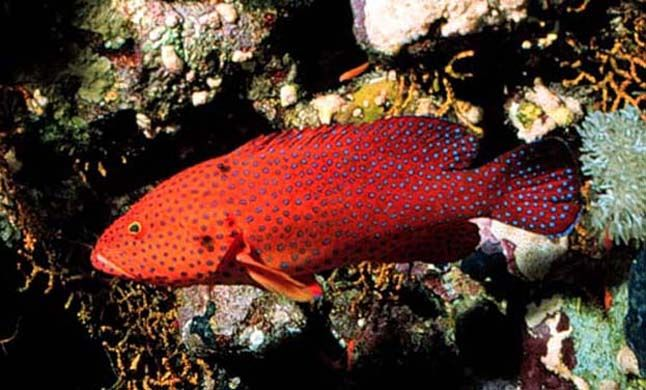fish: (91, 117, 585, 302)
